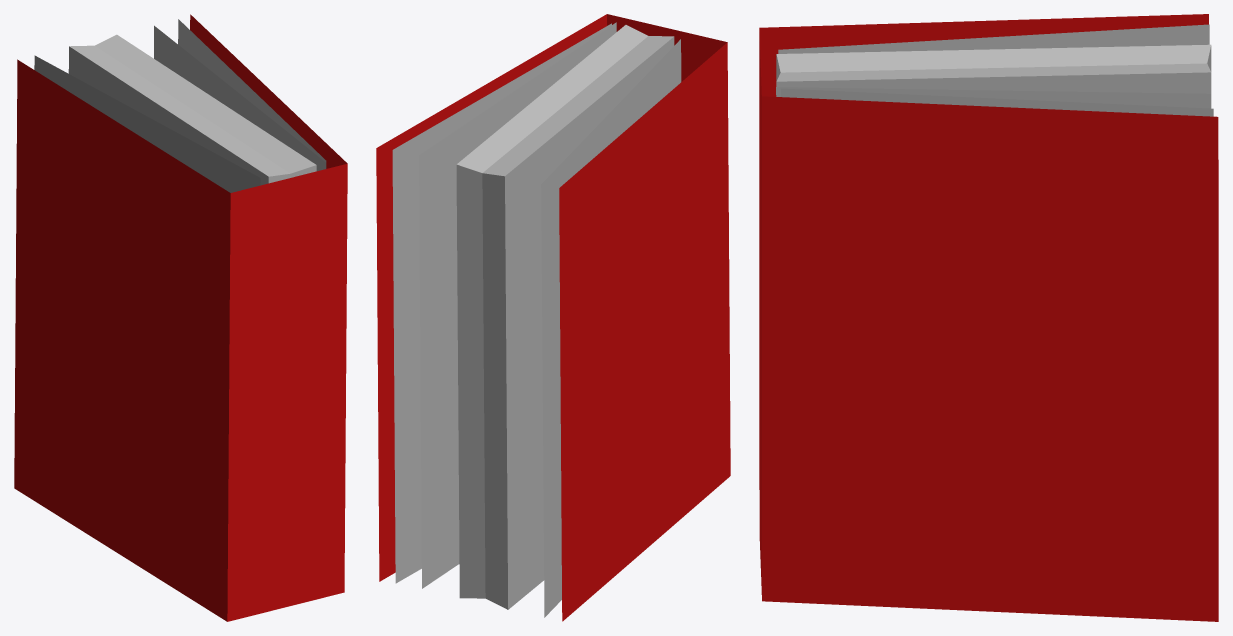
Rendered from PaperFile_01.fbx.
3 views of the same model, side by side, from view 1: azimuth 30°, elevation 25°; view 2: azimuth 150°, elevation 25°; view 3: azimuth 270°, elevation 25° (orthographic). The views are drawn at different scales.
Parts seen in each view (by area): view 1: PaperFile_01; view 2: PaperFile_01; view 3: PaperFile_01.
Part boxes in pixels (x1,y1,x2,y2): PaperFile_01: (14,14,347,621); PaperFile_01: (376,14,730,621); PaperFile_01: (759,14,1218,621).
Bounding box in the file's own units: 0.2002 × 0.456 × 0.3739.
